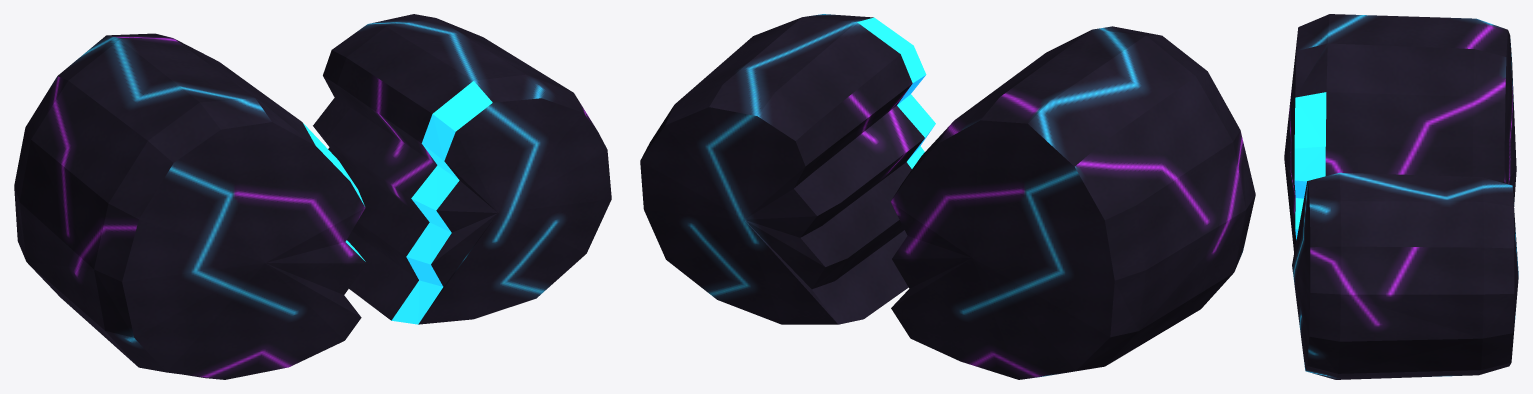
The model's file is AnomalousStoneA.fbx.
3 views of the same model, side by side, from view 1: azimuth 30°, elevation 25°; view 2: azimuth 150°, elevation 25°; view 3: azimuth 270°, elevation 25° (orthographic). The views are drawn at different scales.
Parts seen in each view (by area): view 1: Anomalous_Loose_A_LOD0; view 2: Anomalous_Loose_A_LOD0; view 3: Anomalous_Loose_A_LOD0.
Part boxes in pixels (<box>): Anomalous_Loose_A_LOD0: <box>14,14,611,379</box>; Anomalous_Loose_A_LOD0: <box>640,14,1255,379</box>; Anomalous_Loose_A_LOD0: <box>1284,14,1518,379</box>.
Size of what is drawn, in the model's own units: 17106 by 8960 by 8045.
